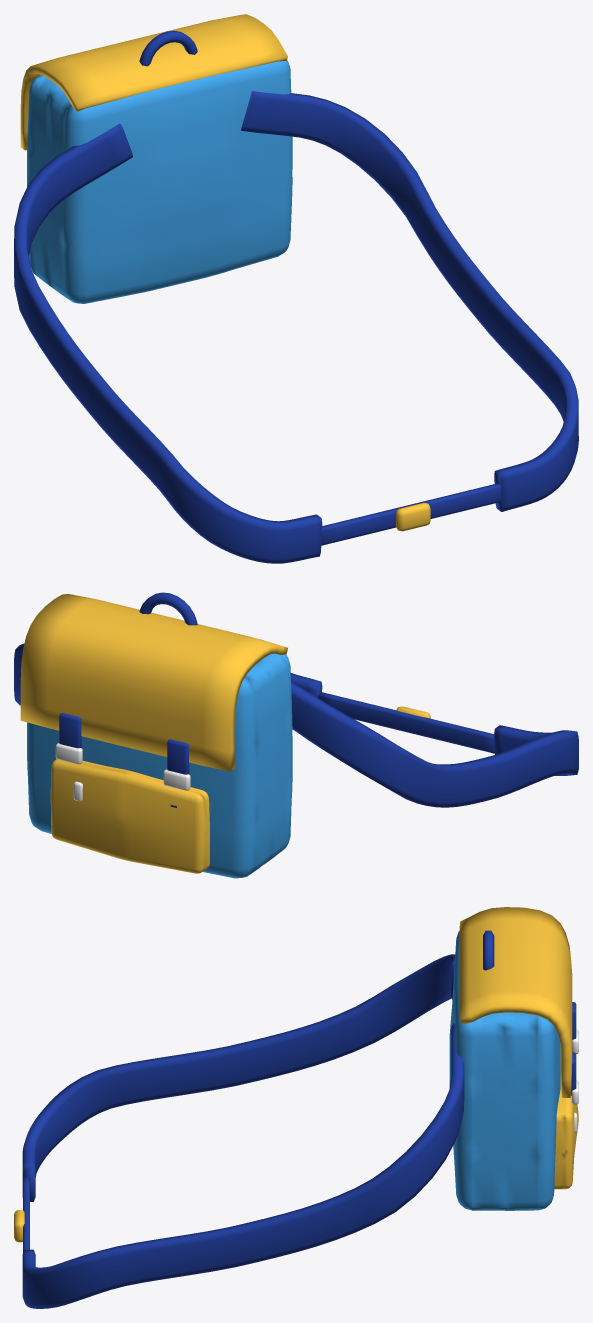
The model's file is backpack.glb.
The picture shows the model from 3 angles, top to bottom: view 1: azimuth 30°, elevation 25°; view 2: azimuth 150°, elevation 25°; view 3: azimuth 270°, elevation 25°; orthographic projection. The views are drawn at different scales.
Parts seen in each view (by area): view 1: pack, strap.001, strap, flap, chest, handle, clip.002; view 2: flap, pack, strap.001, pocketbox, chest, strap, handle, tab, tab.001, clip.001, clip; view 3: strap, pack, strap.001, flap, pocketbox.
Part boxes in pixels (<box>): pack: <box>27,60,292,303</box>; strap.001: <box>14,123,322,563</box>; strap: <box>241,91,578,511</box>; flap: <box>20,14,287,150</box>; chest: <box>321,483,501,545</box>; handle: <box>139,30,197,66</box>; clip.002: <box>396,503,430,531</box>; flap: <box>20,594,287,771</box>; pack: <box>27,653,292,878</box>; strap.001: <box>291,682,578,807</box>; pocketbox: <box>50,759,209,873</box>; chest: <box>318,692,494,753</box>; strap: <box>14,643,322,705</box>; handle: <box>139,592,197,625</box>; tab: <box>59,713,81,748</box>; tab.001: <box>167,739,189,774</box>; clip.001: <box>163,769,190,790</box>; clip: <box>55,743,82,764</box>; strap: <box>22,1023,464,1308</box>; pack: <box>449,931,560,1210</box>; strap.001: <box>22,954,455,1201</box>; flap: <box>459,907,572,1097</box>; pocketbox: <box>554,1086,578,1189</box>.
Size of the model in its own units: 1.34 by 1.04 by 1.71.
